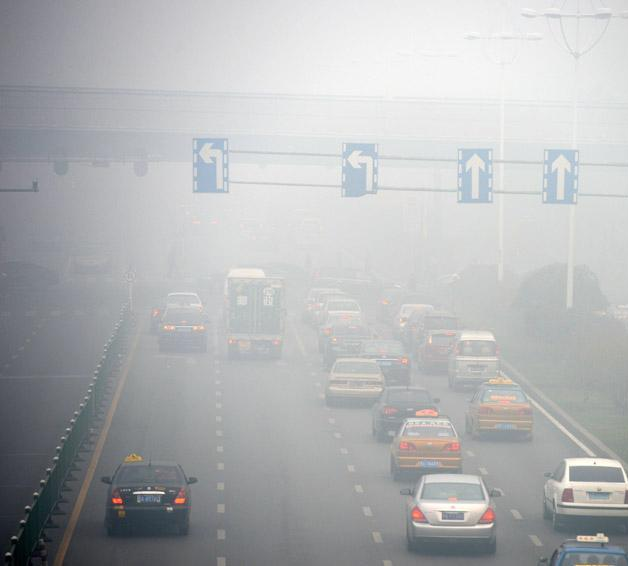bus: (227, 277, 290, 361)
car: (399, 471, 504, 556), (100, 458, 200, 536), (541, 455, 627, 530), (388, 408, 461, 483), (464, 377, 533, 439), (370, 385, 440, 441), (445, 330, 500, 392), (323, 357, 385, 406), (537, 532, 625, 566), (400, 308, 462, 354), (355, 337, 411, 385), (222, 266, 268, 323), (158, 303, 207, 351), (416, 328, 462, 374), (160, 290, 205, 336), (1, 260, 59, 295), (326, 321, 373, 364), (309, 290, 357, 329), (318, 299, 364, 336), (71, 243, 112, 277), (304, 288, 343, 322)
